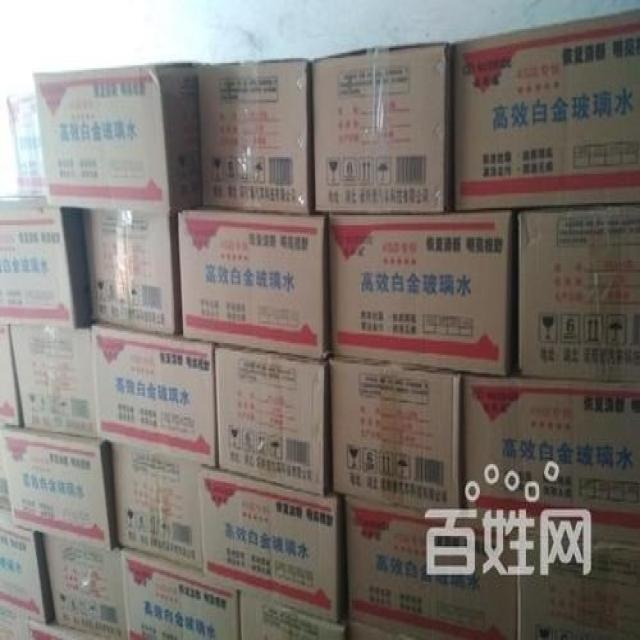box: (450, 12, 639, 211), (463, 375, 639, 548), (330, 213, 516, 374), (33, 62, 204, 212), (342, 495, 520, 638), (314, 44, 455, 213), (202, 466, 349, 622), (329, 357, 465, 518), (518, 201, 639, 381), (179, 210, 330, 353), (201, 58, 315, 216), (92, 329, 216, 467), (216, 347, 331, 495), (0, 428, 113, 549), (82, 209, 182, 339), (109, 446, 202, 577), (521, 536, 639, 638), (0, 196, 89, 327), (12, 325, 100, 439), (125, 553, 240, 638), (0, 445, 52, 626), (43, 533, 127, 638), (239, 591, 352, 637), (7, 91, 48, 191), (0, 324, 24, 429), (32, 623, 105, 638), (0, 608, 31, 638), (349, 622, 405, 638)
